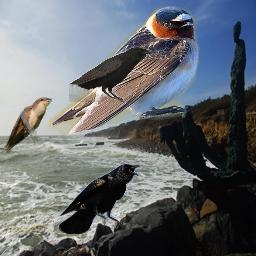Crow: (59, 163, 141, 234), (69, 46, 154, 102)
Cuckoo: (3, 97, 52, 154)
Swallow: (49, 6, 200, 140)
